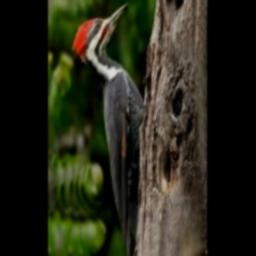Woodpecker: (72, 2, 146, 256)
